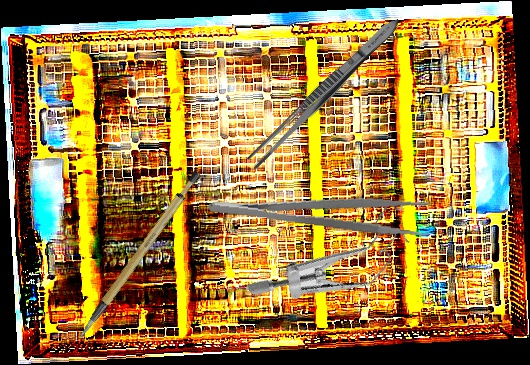Dressing Forceps: (243, 12, 405, 174), (206, 178, 434, 240)
Scalpel Handle: (52, 167, 222, 341)
Speculum: (243, 160, 427, 352)
